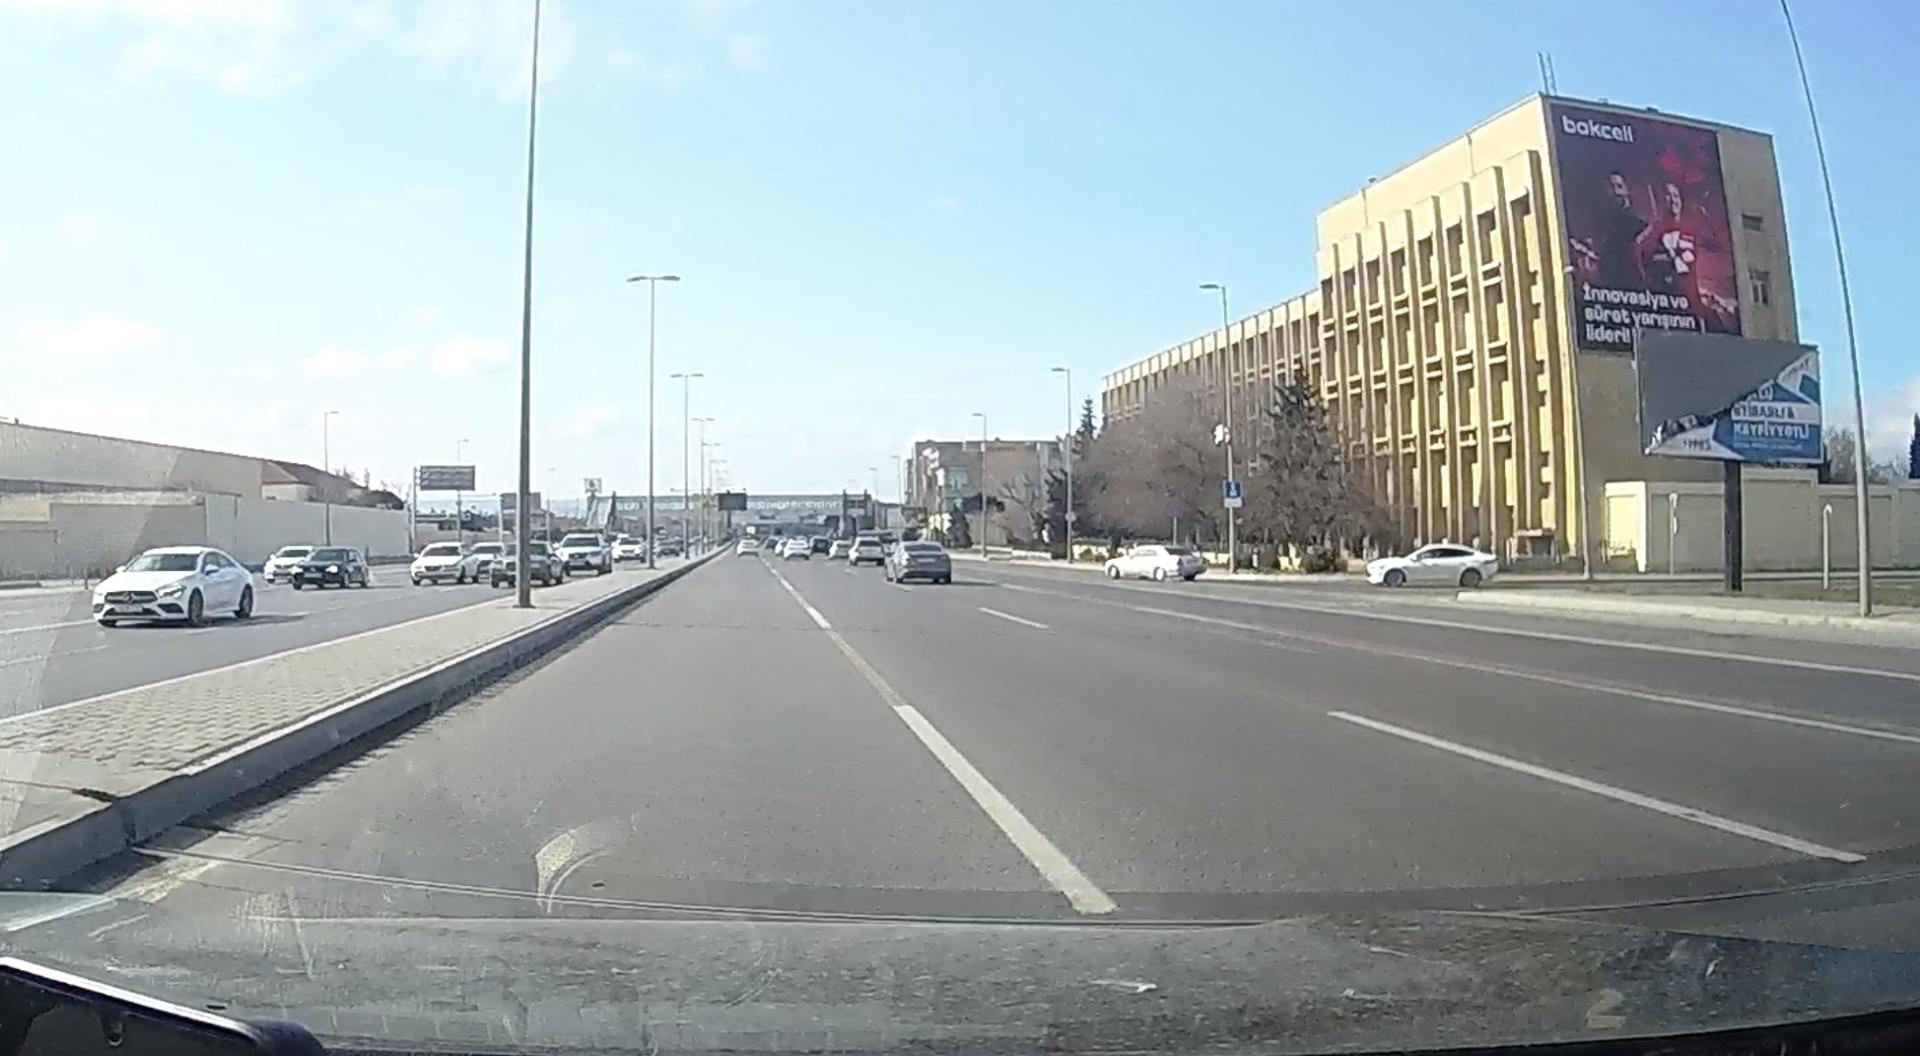banner: (1551, 100, 1746, 359), (1634, 326, 1829, 469)
